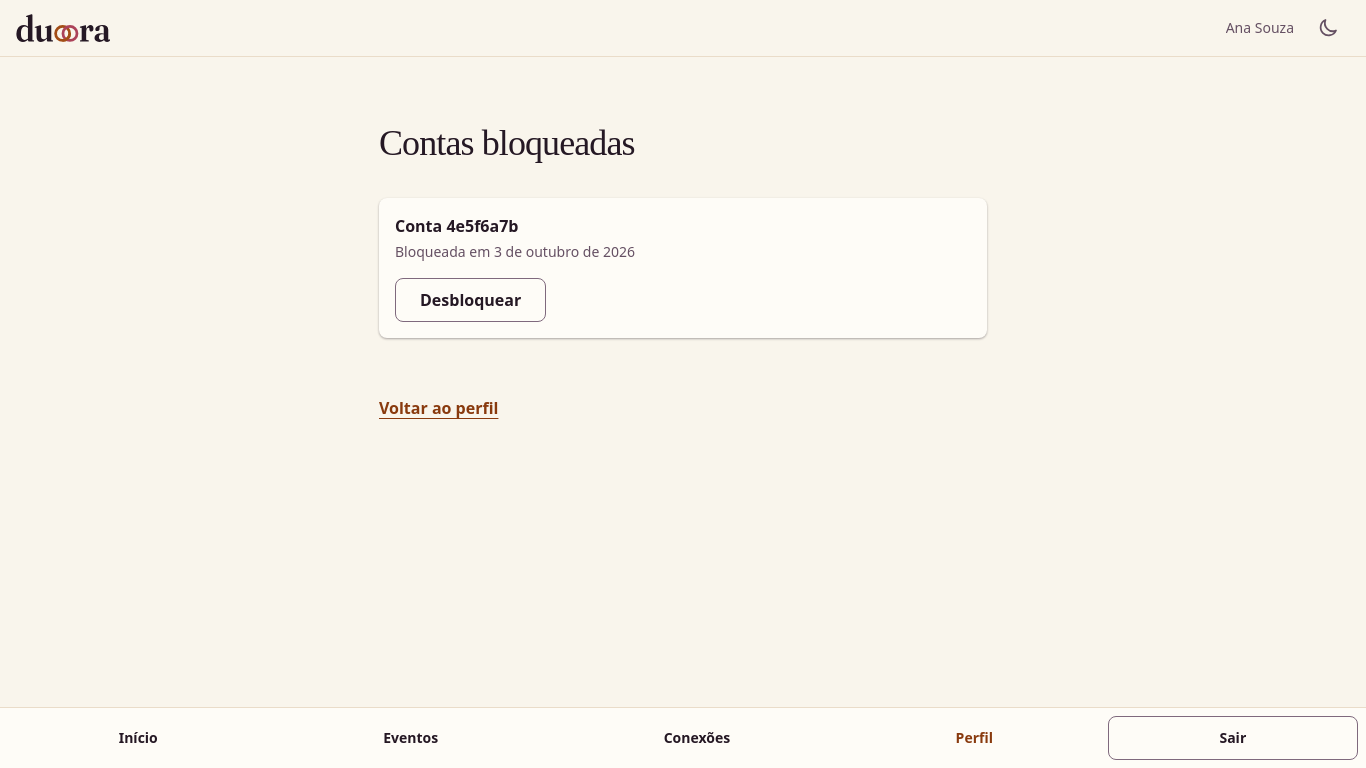
Scenario: blocked accounts page › shows the empty state after unblocking the last account
Click the button "Desbloquear" at (471, 300), box [395, 278, 546, 322]
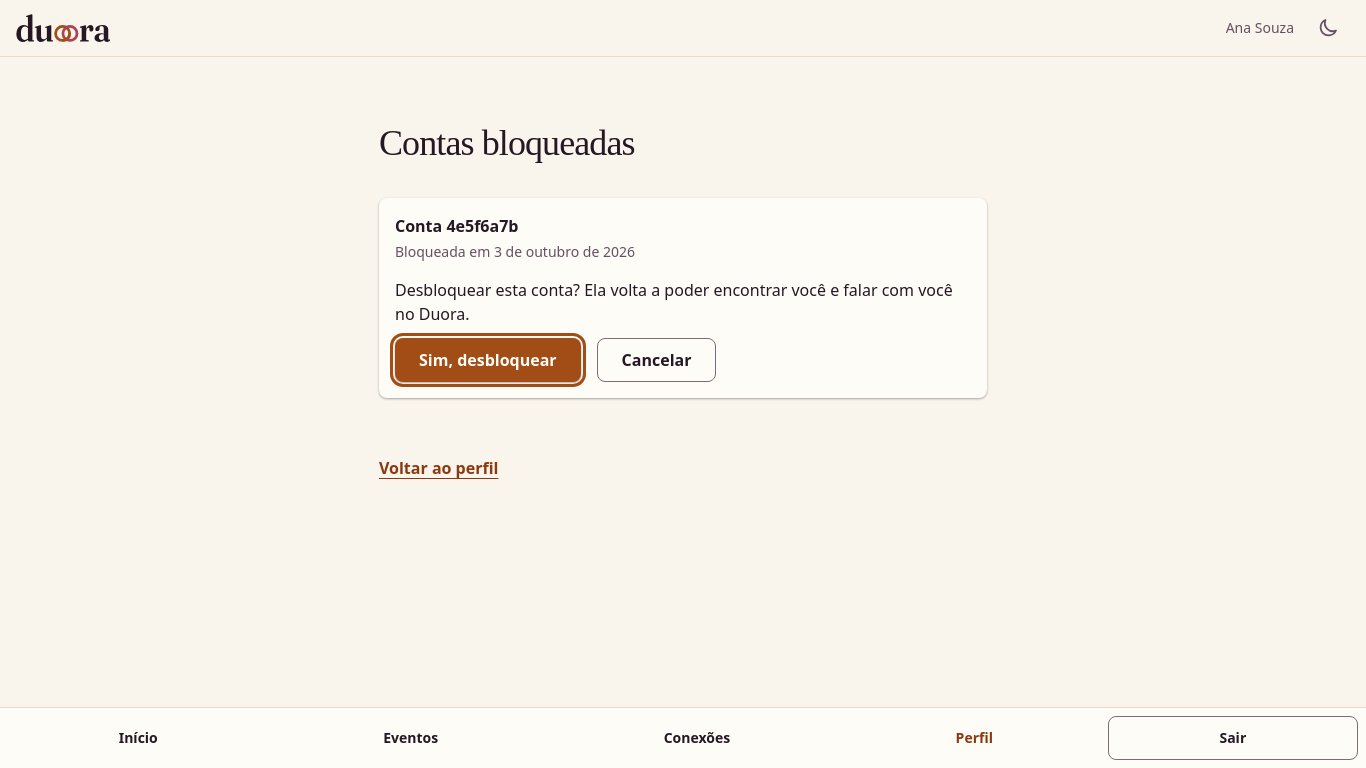
Click the button "Sim, desbloquear" at (488, 360), box [395, 338, 581, 382]
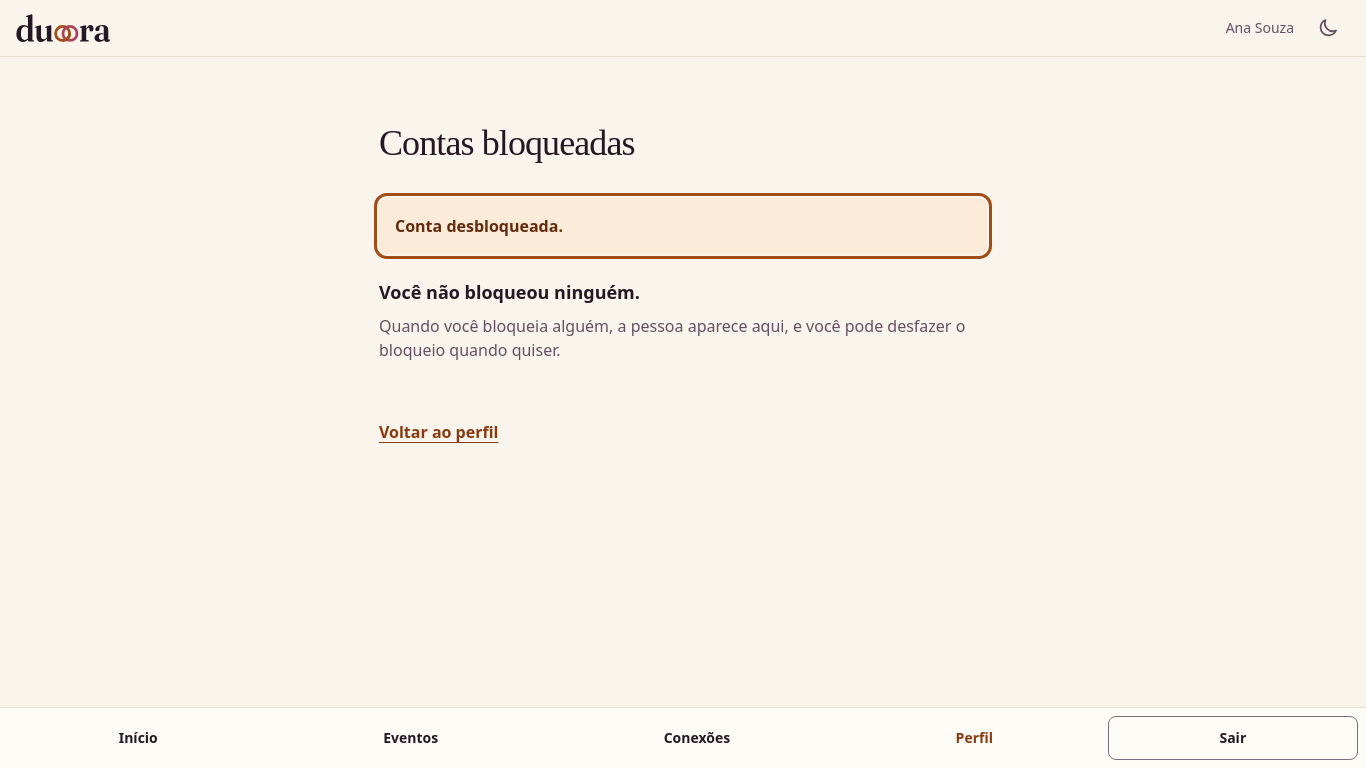
Check: the text "Você não bloqueou ninguém." is shown, box [379, 280, 640, 304]
Check: the message reads "Conta desbloqueada.", box [395, 215, 563, 237]
